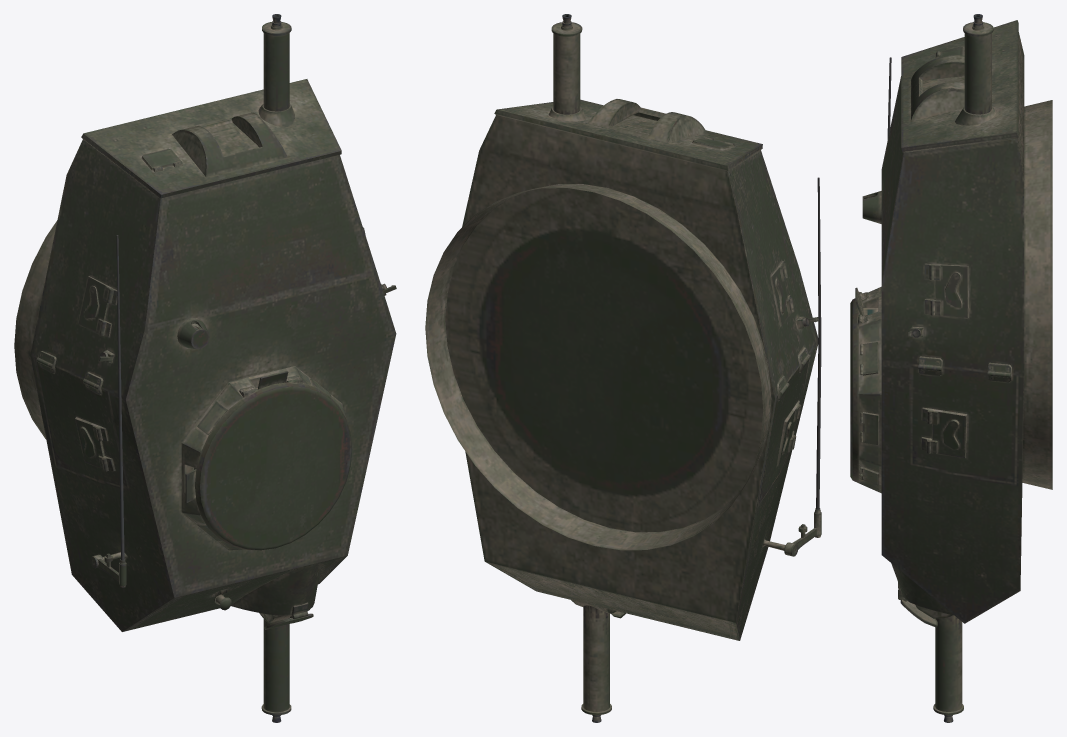
Rendered from Turret_01.glb.
3 renders of one model, left to right at view 1: azimuth 30°, elevation 25°; view 2: azimuth 150°, elevation 25°; view 3: azimuth 270°, elevation 25°, orthographic. The views are drawn at different scales.
Parts seen in each view (by area): view 1: set_0_group_0; view 2: set_0_group_0; view 3: set_0_group_0.
Part boxes in pixels (<box>): set_0_group_0: <box>14,14,396,722</box>; set_0_group_0: <box>425,14,821,722</box>; set_0_group_0: <box>850,14,1052,722</box>.
Size of the model in its own units: 1.5 by 3.02 by 0.7771.
1 material, 1 textured.
